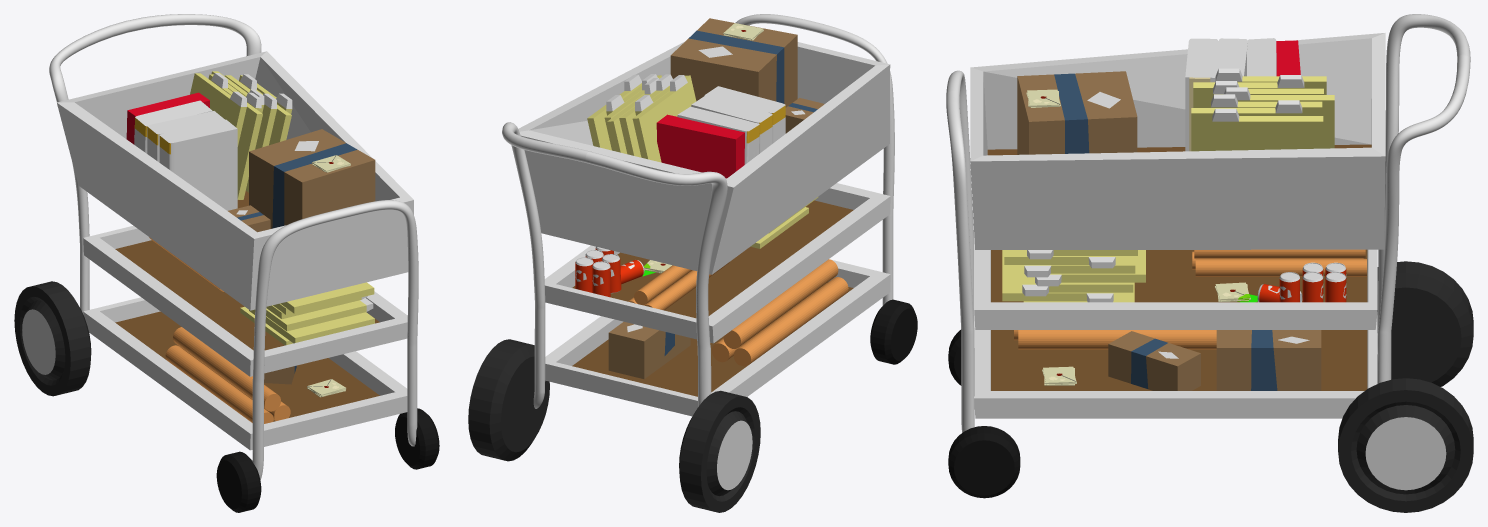
The model's file is MailCart.fbx.
3 views of the same model, side by side, from view 1: azimuth 30°, elevation 25°; view 2: azimuth 150°, elevation 25°; view 3: azimuth 270°, elevation 25° (orthographic). The views are drawn at different scales.
Visible parts, largest first — view 1: NurbsPath.003, Cube.008, Cube.041, Cube.030, Cylinder.006, Cube.018, Cube.009; view 2: NurbsPath.003, Cube.041, Cube.008, Cube.030, Cylinder.006, Cube.020, Cylinder.026, Cylinder.010, Cube.009, Cylinder.025, Cube.017; view 3: NurbsPath.003, Cube.020, Cube.030, Cube.008, Cube.018, Cube.041, Cylinder.010, Cylinder.006, Cylinder.026, Cylinder.025, Cube.033.
Boxes of the visible parts, x1,y1,x2,y2 form: NurbsPath.003: (14,14,439,512); Cube.008: (249,129,375,228); Cube.041: (126,92,237,210); Cube.030: (190,71,292,199); Cylinder.006: (165,327,290,423); Cube.018: (249,282,374,343); Cube.009: (228,205,270,232); NurbsPath.003: (468,14,917,512); Cube.041: (656,86,785,178); Cube.008: (670,18,797,107); Cube.030: (587,74,696,162); Cylinder.006: (711,259,848,366); Cube.020: (608,322,690,379); Cylinder.026: (585,246,671,297); Cylinder.010: (628,262,729,310); Cube.009: (785,98,824,133); Cylinder.025: (575,257,593,292); Cube.017: (751,207,808,248); NurbsPath.003: (946,14,1473,512); Cube.020: (1108,330,1321,390); Cube.030: (1191,68,1334,151); Cube.008: (1017,71,1137,154); Cube.018: (1002,250,1145,302); Cube.041: (1185,38,1300,151); Cylinder.010: (1192,249,1366,276); Cylinder.006: (1014,330,1216,349); Cylinder.026: (1214,262,1346,302); Cylinder.025: (1325,272,1346,302); Cube.033: (1042,366,1076,385).
Bounding box in the file's own units: 276 × 381 × 463.
